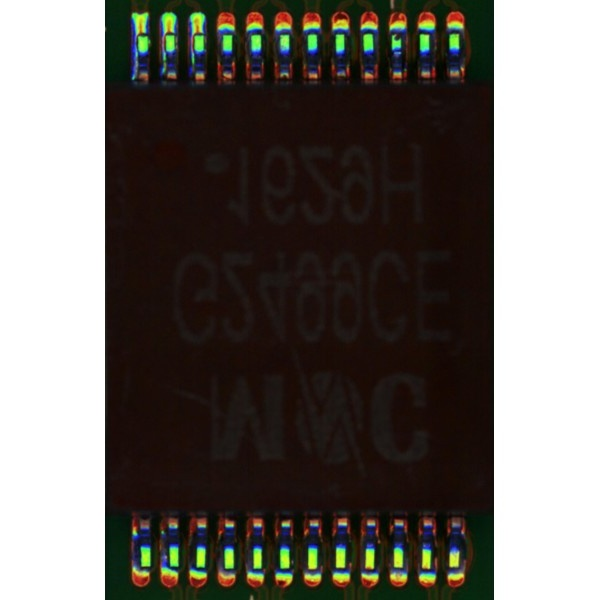Bad_podu: (193, 25, 201, 40), (164, 25, 172, 40), (136, 25, 144, 40)
Bad_qiaojiao: (160, 35, 165, 76), (133, 37, 138, 78), (190, 36, 195, 70)
